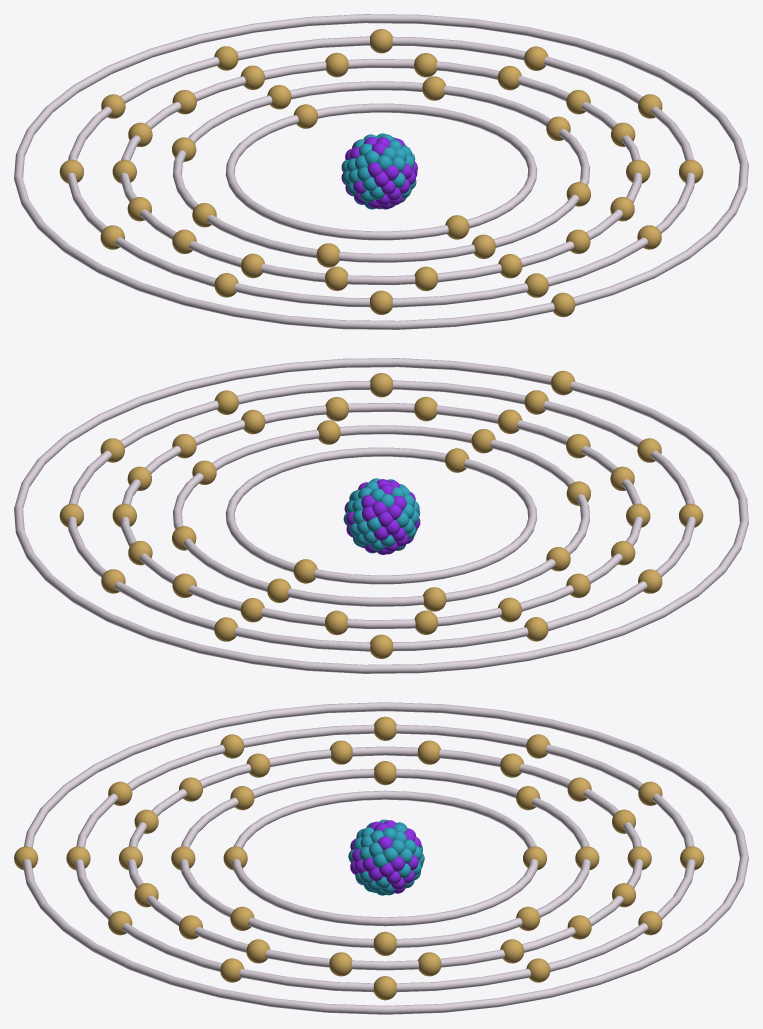
The model's file is niobio.glb.
3 views of the same model, one above another, from view 1: azimuth 30°, elevation 25°; view 2: azimuth 150°, elevation 25°; view 3: azimuth 270°, elevation 25° (orthographic).
Parts seen in each view (by area): view 1: Orbita_5, Orbita_4, Orbita_3, Orbita_2, Orbita_1, Nucleo_Completo; view 2: Orbita_5, Orbita_4, Orbita_3, Orbita_2, Orbita_1, Nucleo_Completo; view 3: Orbita_5, Orbita_4, Orbita_3, Orbita_2, Orbita_1, Nucleo_Completo.
Part boxes in pixels (box(x1,y1,x2,y2)): Orbita_5: box(14, 14, 748, 329); Orbita_4: box(67, 36, 695, 307); Orbita_3: box(120, 58, 642, 285); Orbita_2: box(173, 81, 589, 262); Orbita_1: box(225, 103, 537, 240); Nucleo_Completo: box(341, 133, 417, 209); Orbita_5: box(14, 358, 748, 673); Orbita_4: box(67, 380, 695, 651); Orbita_3: box(120, 402, 642, 629); Orbita_2: box(173, 425, 589, 606); Orbita_1: box(225, 447, 537, 584); Nucleo_Completo: box(343, 478, 420, 554); Orbita_5: box(22, 702, 748, 1014); Orbita_4: box(75, 724, 695, 992); Orbita_3: box(127, 746, 643, 970); Orbita_2: box(179, 769, 590, 947); Orbita_1: box(232, 790, 538, 926); Nucleo_Completo: box(348, 819, 424, 895).
Bounding box in the file's own units: 4.86 × 0.5077 × 4.91.
